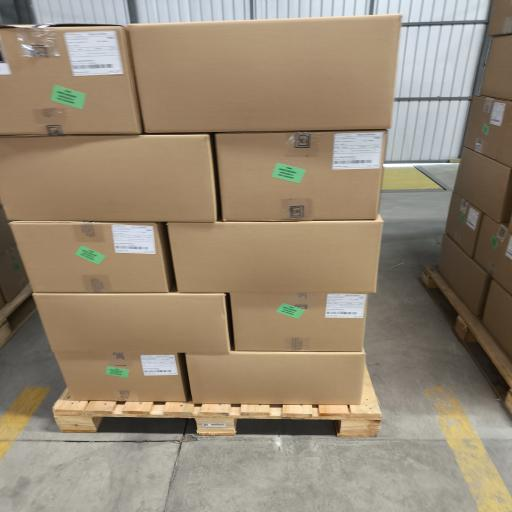pallet: (53, 370, 381, 437), (423, 266, 511, 412), (0, 285, 36, 346)
